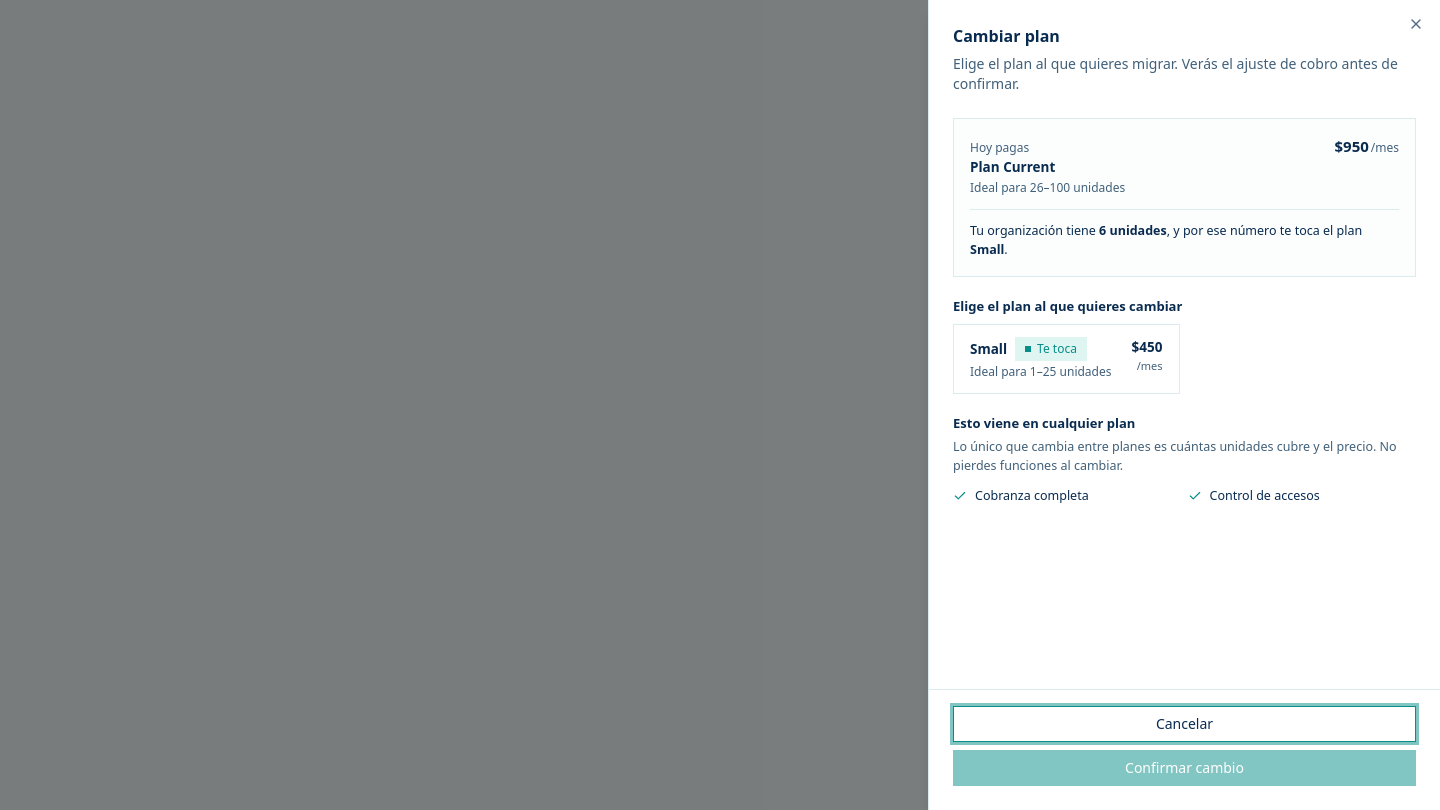
Scenario: ChangeBillingPlanModal — plan-downgrade-guard warning panel › keeps "Confirmar cambio" enabled and renders no warning panel when unit_limit_warning is absent
This screenshot has width=1440, height=810.
Click the radio button labelled "Small Te toca Ideal para 1–25 unidades $450 /mes". click: (1066, 359)
box: top-left (953, 324), bottom-right (1180, 394)
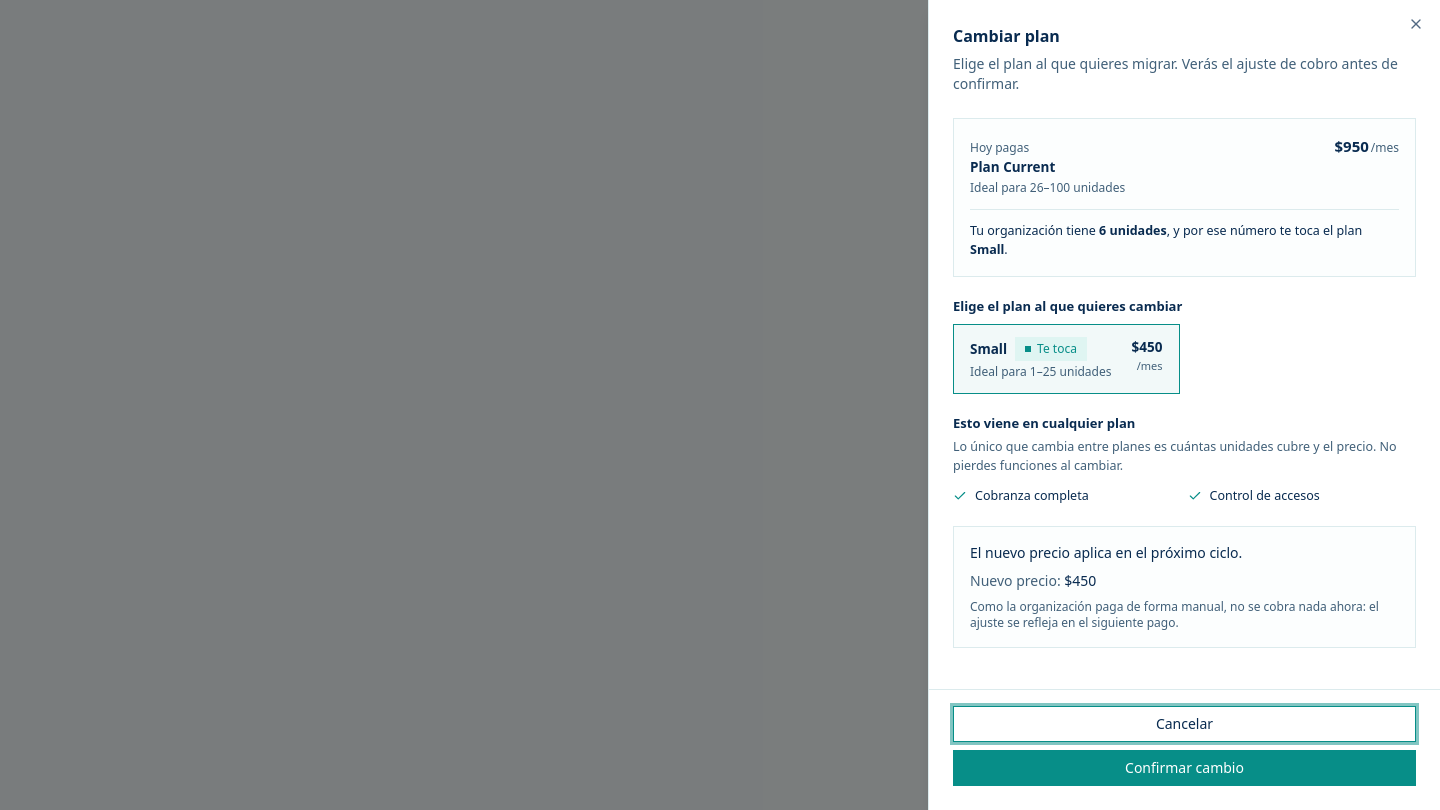
Result: the text "El nuevo precio aplica en el próximo ciclo." is shown at top-left (970, 543), bottom-right (1242, 562)
Result: the button "Confirmar cambio" is enabled at top-left (953, 750), bottom-right (1416, 786)
